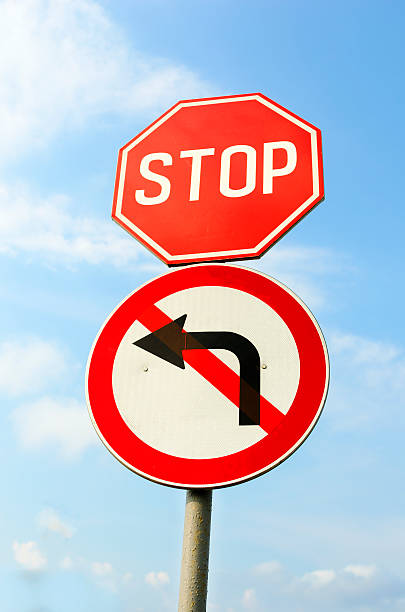sola_girilmez: (86, 263, 329, 483)
